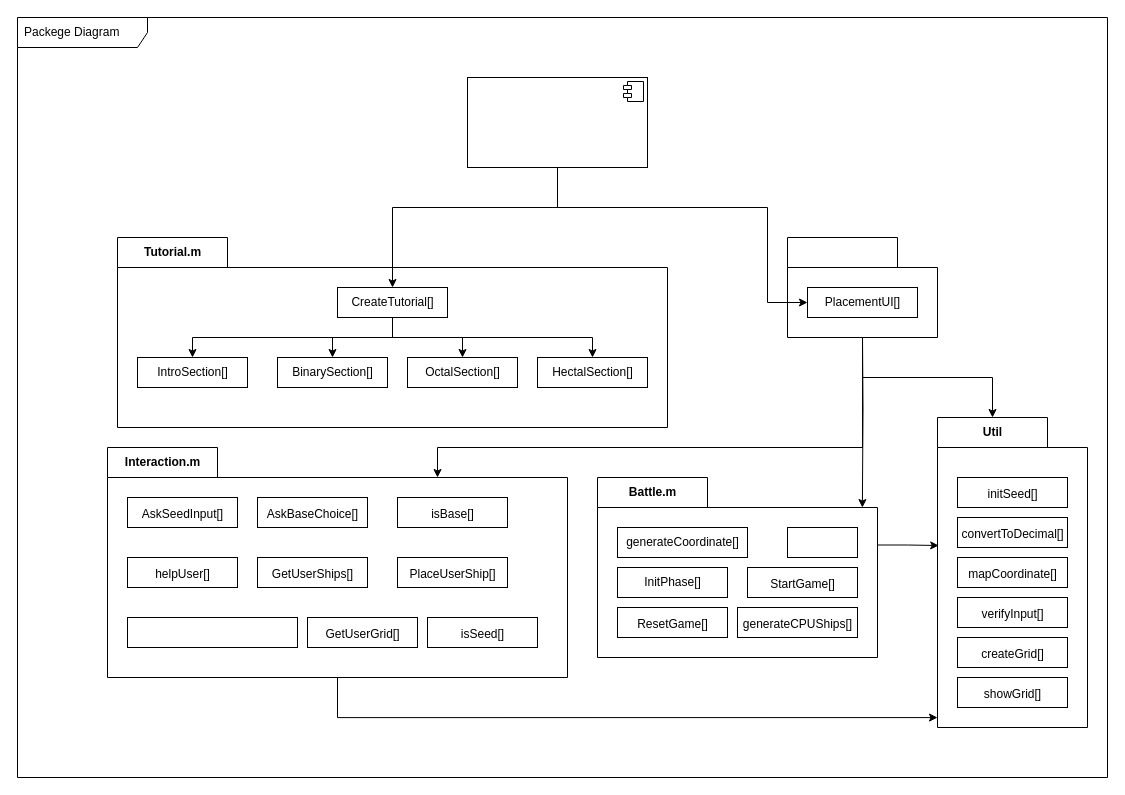
Some shapes in this 1125 by 795 pixel diagram are drawn without their labels. Here are the shapes that lost their labels. From the top down, the centre of each, then its label:
the point at 557,122: Main.nb CreateTutorial[] PlacementUI[]
the point at 862,287: Main.m
the point at 822,542: attack[]
the point at 212,632: GetRemainingShipLengths[]
